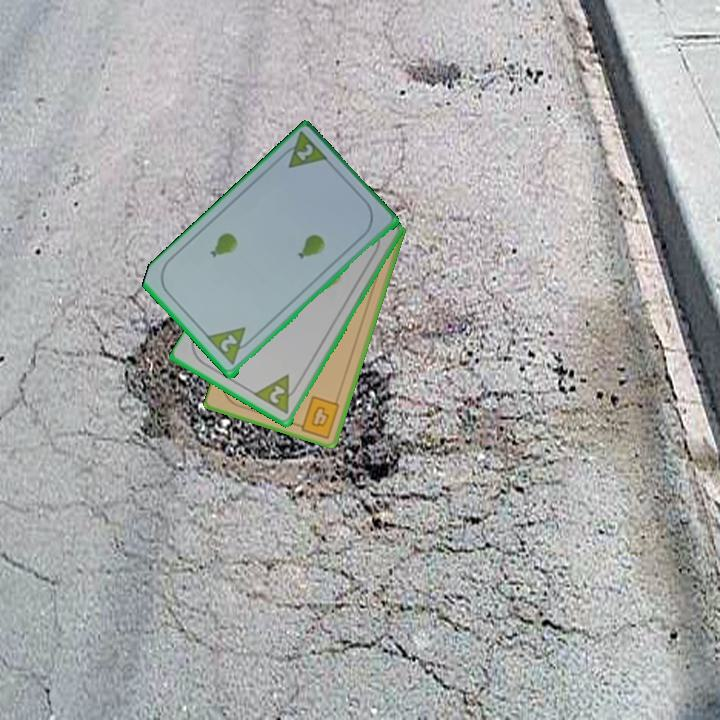2p: (251, 371, 303, 418), (217, 331, 241, 355), (293, 140, 316, 164)
4b: (292, 392, 343, 440)
